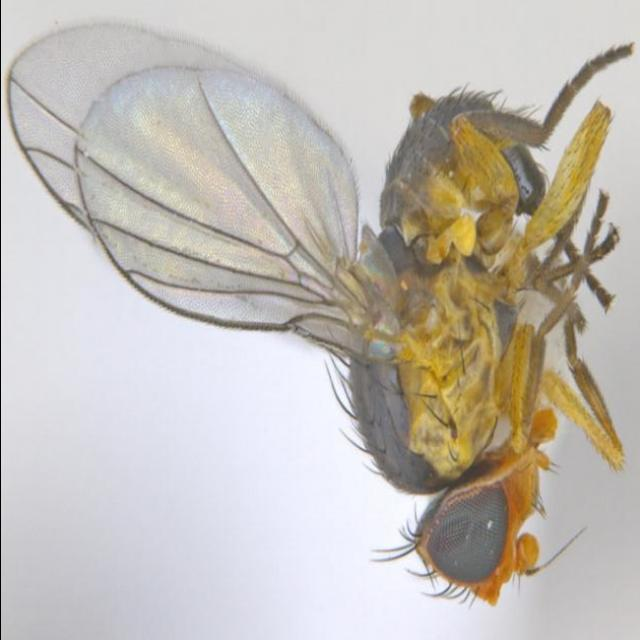Serpentine leafminer: (3, 17, 634, 608)
